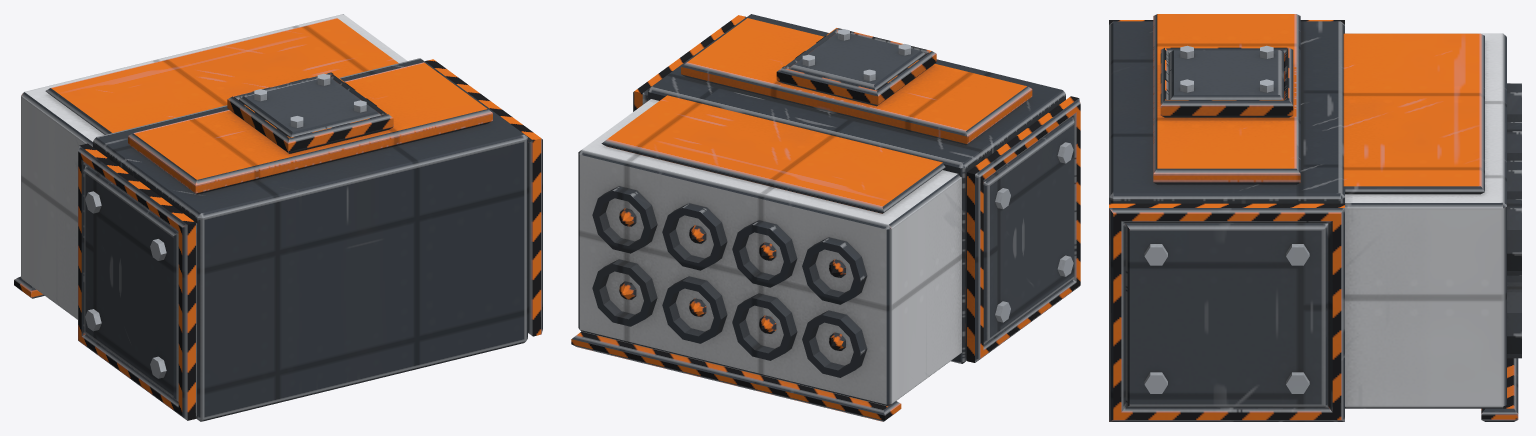
The model's file is misiles_pod_t2.fbx.
3 views of the same model, side by side, from view 1: azimuth 30°, elevation 25°; view 2: azimuth 150°, elevation 25°; view 3: azimuth 270°, elevation 25° (orthographic). The views are drawn at different scales.
Visible parts, largest first — view 1: misiles_pod_t2; view 2: misiles_pod_t2; view 3: misiles_pod_t2.
Boxes of the visible parts, x1=… form: misiles_pod_t2: x1=14, y1=14, x2=542, y2=421; misiles_pod_t2: x1=571, y1=14, x2=1080, y2=421; misiles_pod_t2: x1=1109, y1=14, x2=1521, y2=421.
Size of the model in its own units: 3.2 by 2.03 by 2.8.
